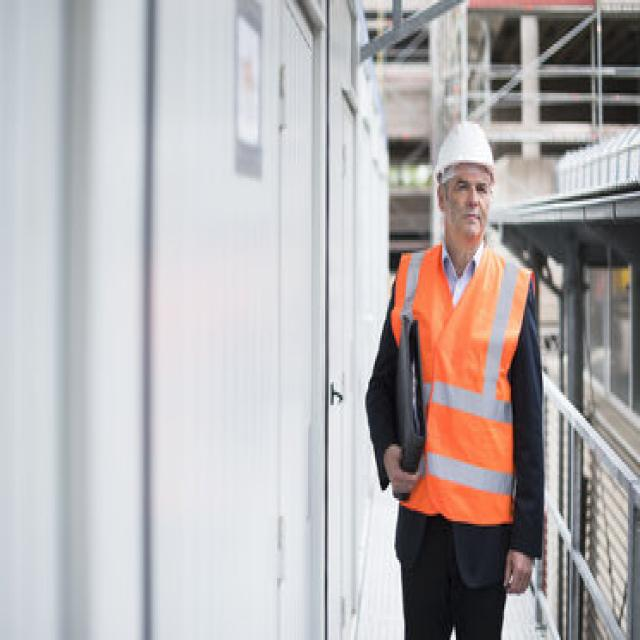helmet: (429, 108, 504, 185)
no-goggles: (441, 172, 496, 202)
vest: (386, 232, 532, 527)
